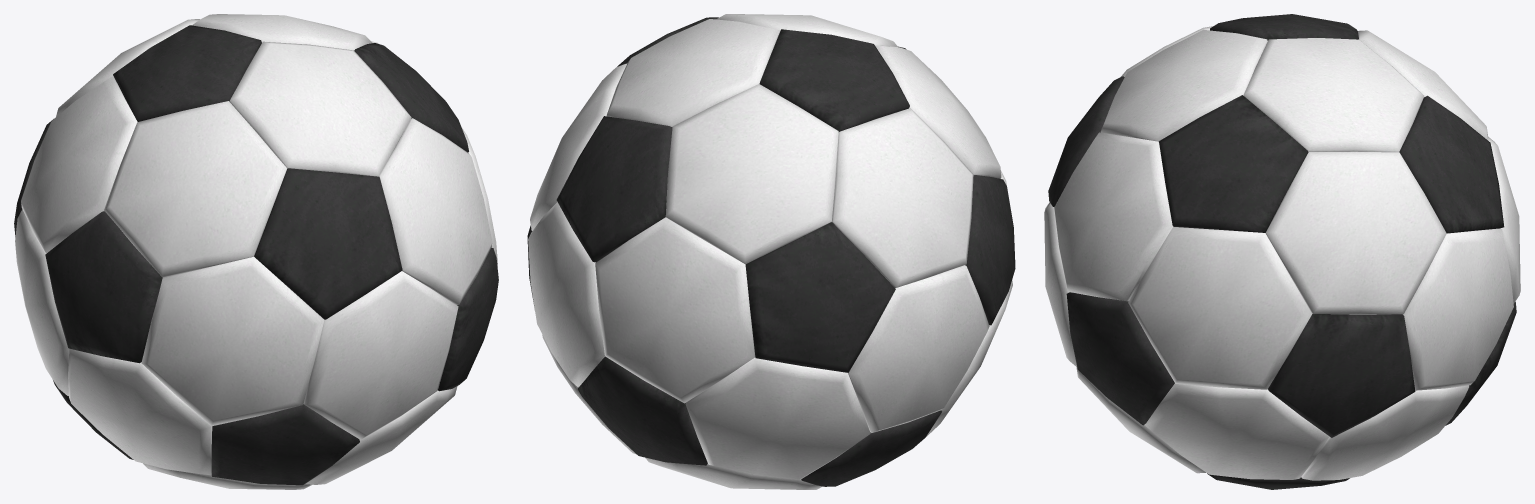
Rendered from Football.fbx.
The picture shows the model from 3 angles, left to right: view 1: azimuth 30°, elevation 25°; view 2: azimuth 150°, elevation 25°; view 3: azimuth 270°, elevation 25°; orthographic projection. The views are drawn at different scales.
Parts seen in each view (by area): view 1: Football; view 2: Football; view 3: Football.
Part boxes in pixels (bbox=[...]): Football: bbox=[14, 14, 498, 489]; Football: bbox=[527, 14, 1015, 489]; Football: bbox=[1044, 14, 1520, 489].
Bounding box in the file's own units: 0.2163 × 0.2174 × 0.2179.
